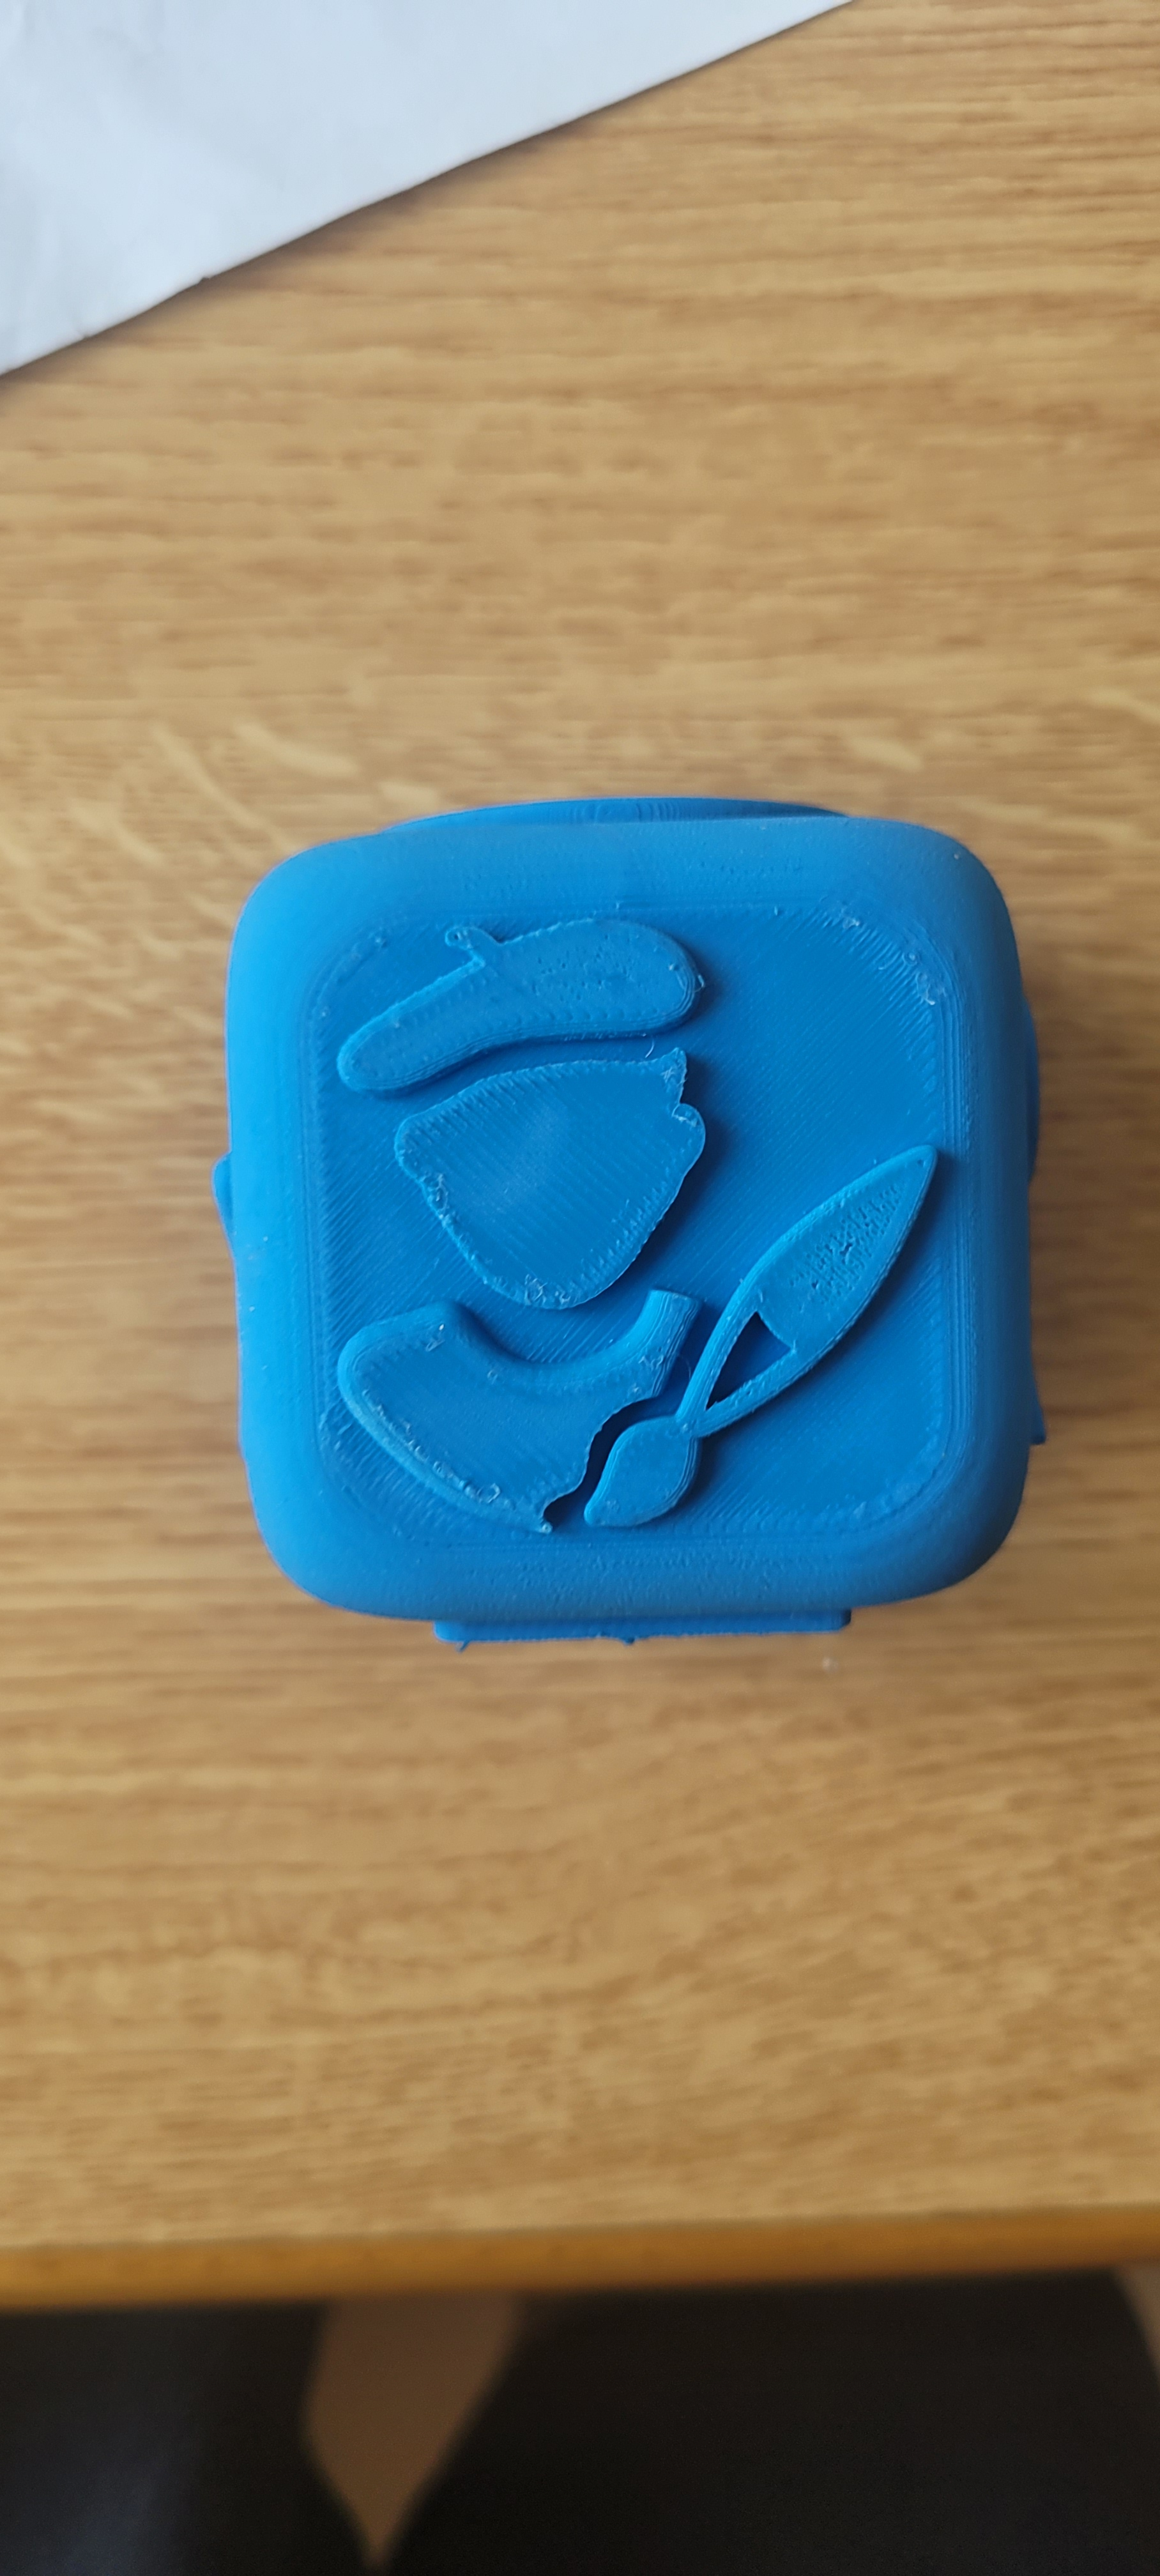Artist_Info: (192, 779, 1040, 1666)
